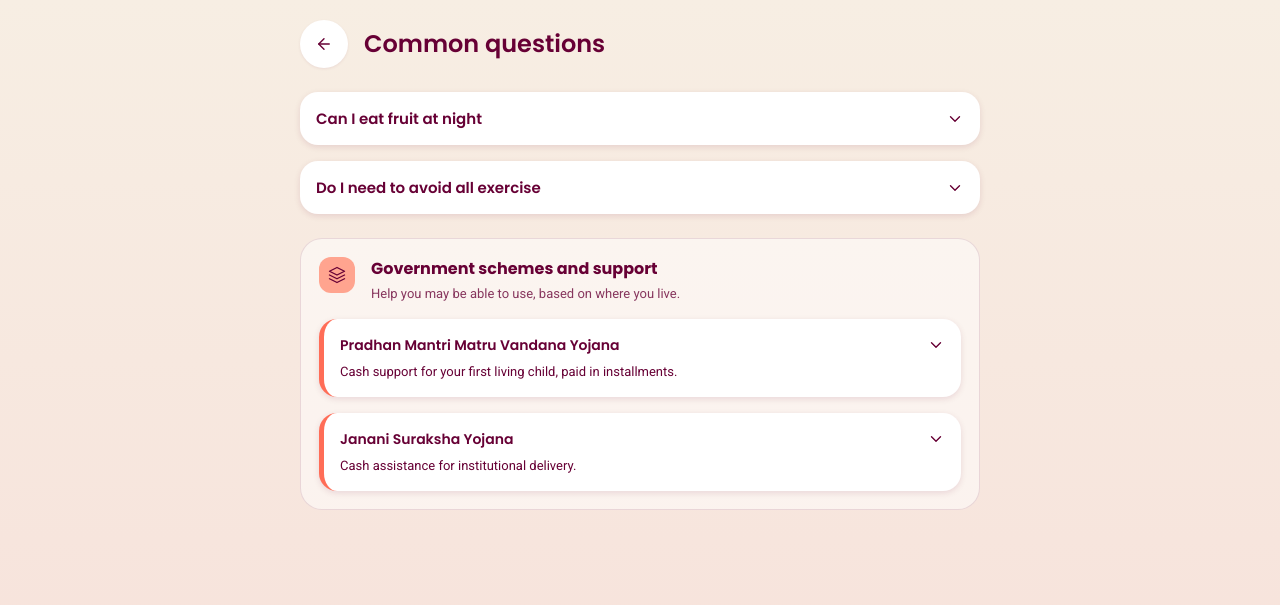
Test: CommonQuestions › keeps FAQ and scheme expansion state independent
The width and height of the screenshot is (1280, 605).
Click the button "Can I eat fruit at night" at (399, 118), box x1=300 y1=92 x2=980 y2=145
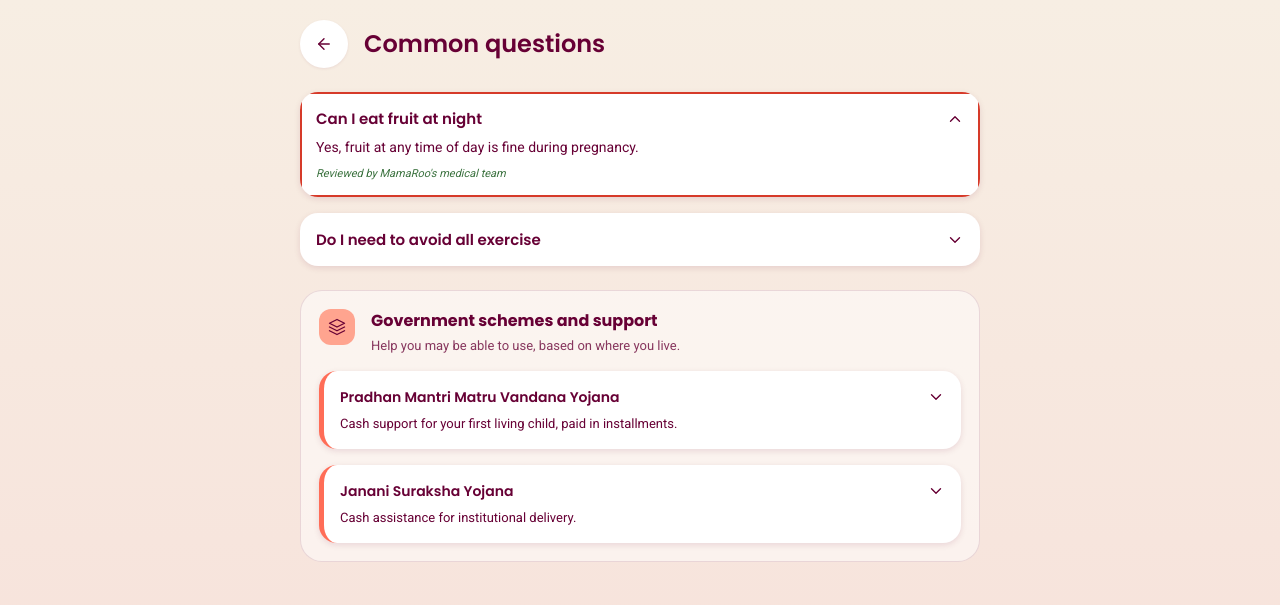
Expected: the button "Can I eat fruit at night" is expanded, x1=300 y1=92 x2=980 y2=197
Expected: the text "Yes, fruit at any time of day is fine during pregnancy." is shown, x1=316 y1=137 x2=639 y2=158
Click the button "Pradhan Mantri Matru Vandana Yojana" at (480, 397), box x1=324 y1=371 x2=961 y2=449
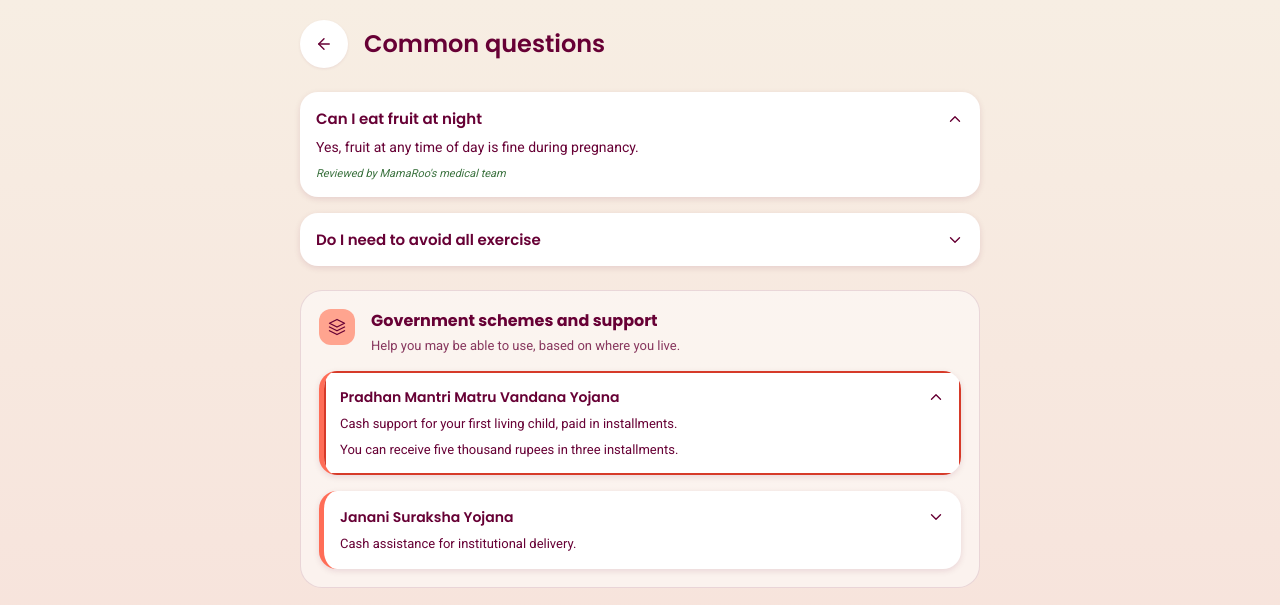
Expected: the button "Can I eat fruit at night" is expanded
Expected: the button "Pradhan Mantri Matru Vandana Yojana" is expanded, x1=324 y1=371 x2=961 y2=475
Expected: the text "You can receive five thousand rupees in three installments." is shown, x1=340 y1=441 x2=678 y2=459
Click the button "Can I eat fruit at night" at (640, 144), box x1=300 y1=92 x2=980 y2=197
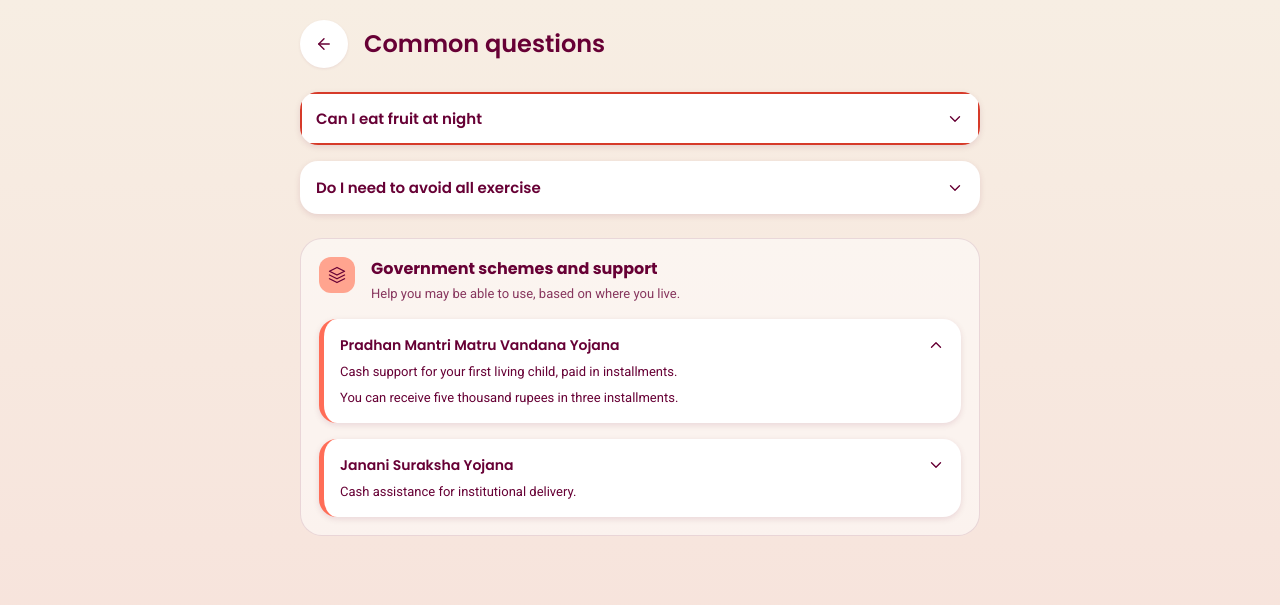
Expected: the button "Pradhan Mantri Matru Vandana Yojana" is expanded, x1=324 y1=319 x2=961 y2=423
Expected: the button "Can I eat fruit at night" is collapsed, x1=300 y1=92 x2=980 y2=145
